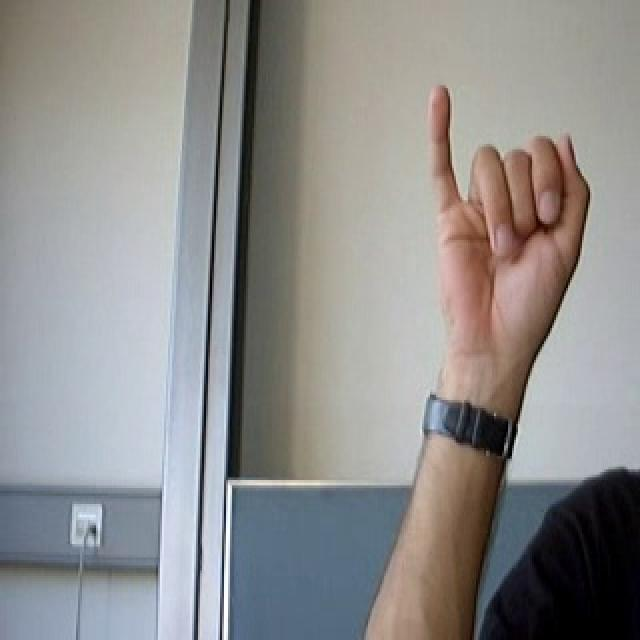I: (405, 67, 607, 379)
